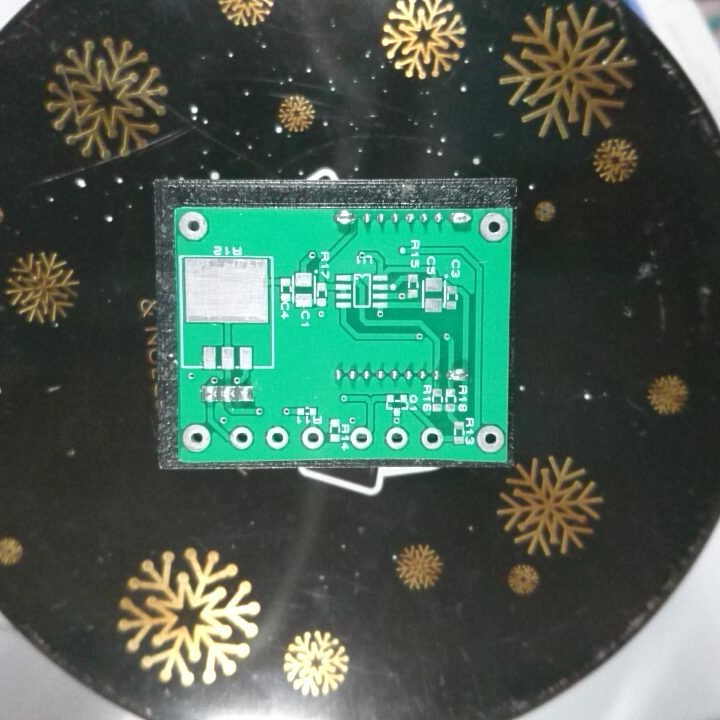F: (477, 210, 510, 243), (180, 420, 211, 455), (177, 210, 209, 241), (474, 423, 505, 453), (347, 423, 374, 452), (264, 423, 291, 450), (382, 423, 409, 449), (419, 424, 444, 452), (228, 423, 253, 449), (299, 425, 325, 449)
P: (331, 208, 357, 230), (444, 363, 470, 383), (447, 209, 472, 229)
